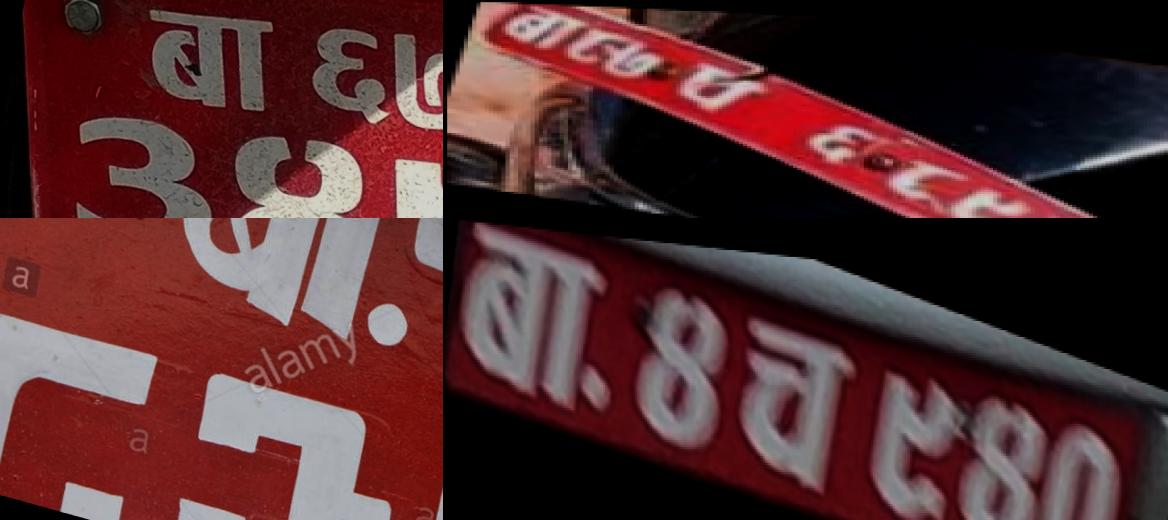0: (1032, 392, 1135, 520)
1: (375, 218, 443, 404)
3: (151, 338, 429, 520), (38, 87, 233, 218)
4: (614, 263, 738, 454), (199, 104, 399, 218), (946, 364, 1057, 520)
5: (1001, 197, 1106, 218)
6: (290, 4, 406, 137), (797, 108, 882, 172)
7: (373, 8, 443, 144), (595, 28, 668, 80)
8: (0, 274, 178, 520), (877, 141, 966, 207), (556, 16, 628, 70)
9: (857, 342, 968, 520), (936, 171, 1029, 218)
ba: (150, 218, 419, 360), (443, 218, 625, 424), (124, 0, 289, 122), (489, 1, 586, 62)
cha: (720, 295, 860, 494)
pa: (664, 50, 774, 121)
